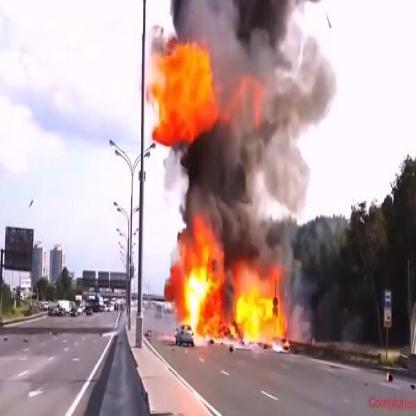fire: (168, 214, 286, 347), (148, 32, 220, 151)
